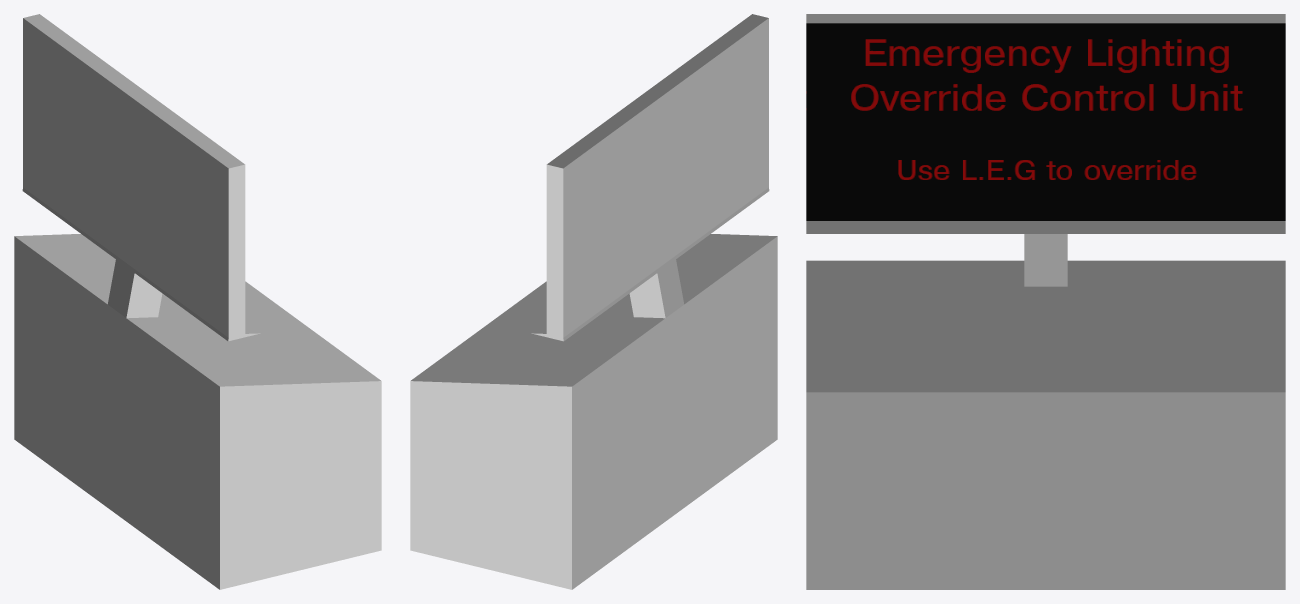
The model's file is obj_computer_dylan.dae.
3 renders of one model, left to right at view 1: azimuth 30°, elevation 25°; view 2: azimuth 150°, elevation 25°; view 3: azimuth 270°, elevation 25°, orthographic. The views are drawn at different scales.
Visible parts, largest first — view 1: mesh0%root%0%; view 2: mesh0%root%0%; view 3: mesh0%root%0%, mesh0%root%1%.
Boxes of the visible parts, x1=… form: mesh0%root%0%: x1=14, y1=14, x2=381, y2=589; mesh0%root%0%: x1=410, y1=14, x2=777, y2=589; mesh0%root%0%: x1=806, y1=14, x2=1285, y2=589; mesh0%root%1%: x1=806, y1=23, x2=1285, y2=220.
Size of the model in its own units: 1 by 2.47 by 2.2.
